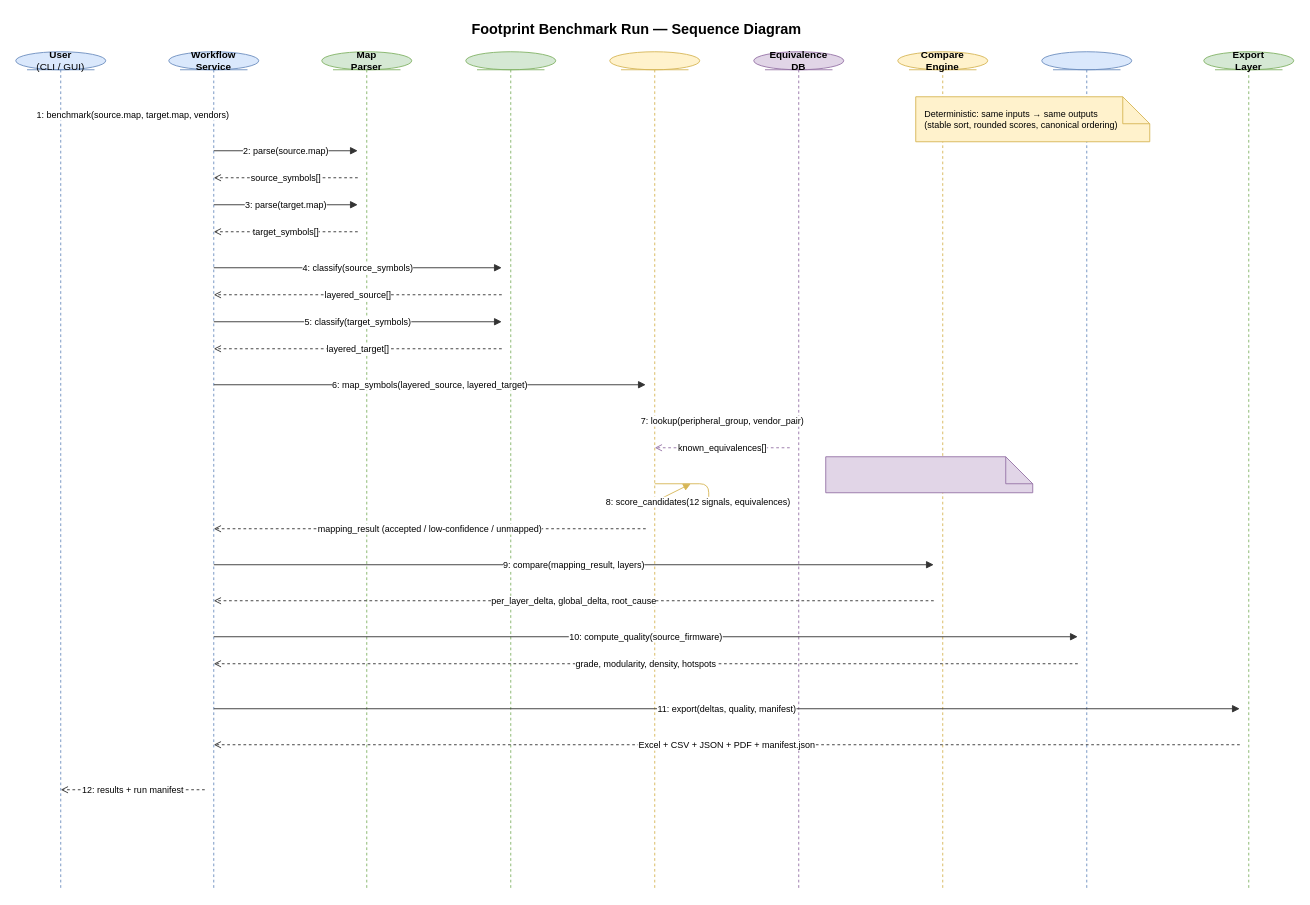
Image size: 1310x905. Some labels were removed from this diagram. The shapes that lost their labels are listed below. From the top down, each one's box as (x1, y1, x2, y2) in pixels, then its label:
(465, 51, 556, 889): Layer Classifier
(609, 51, 700, 889): Mapping Engine
(825, 456, 1033, 493): Equivalence DB lookup boosts confidence to ≥ 0.80 for known pairs
(1041, 51, 1132, 889): Quality Metrics
